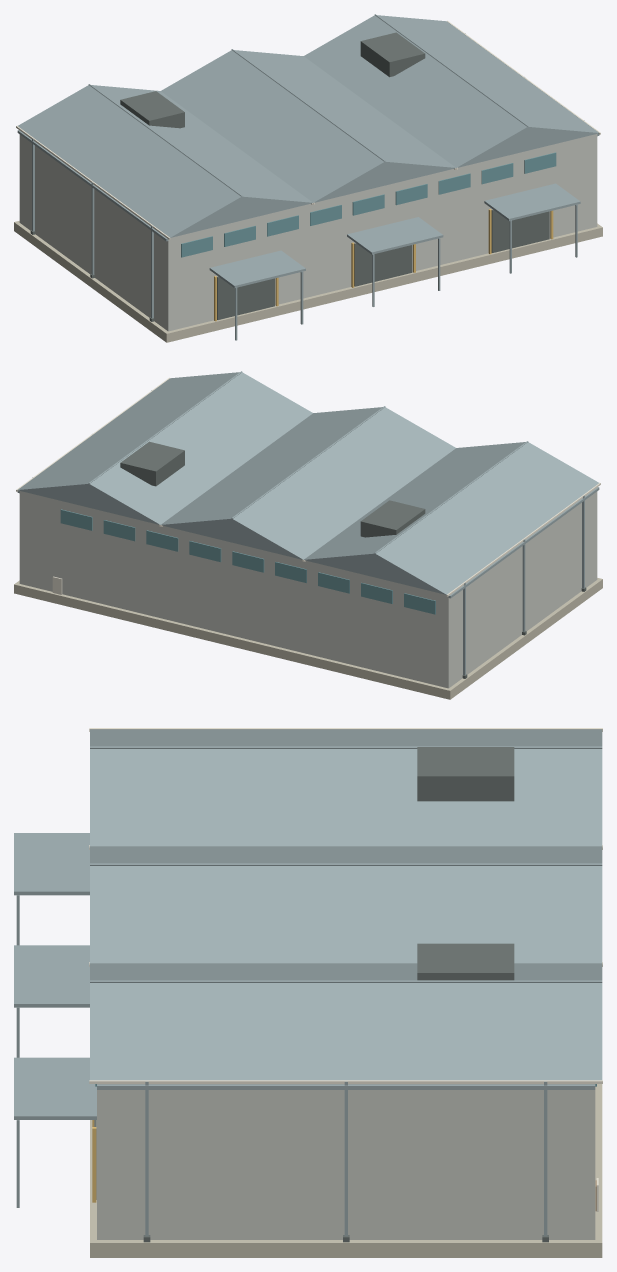
The picture shows the model from 3 angles, top to bottom: view 1: azimuth 30°, elevation 25°; view 2: azimuth 150°, elevation 25°; view 3: azimuth 270°, elevation 25°; orthographic projection. The views are drawn at different scales.
Size of the model in its own units: 61 by 17.5 by 42.55.
